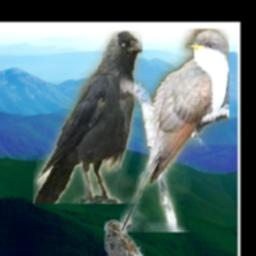Crow: (33, 32, 142, 205)
Cuckoo: (120, 29, 229, 232)
Sparrow: (103, 220, 152, 256)
